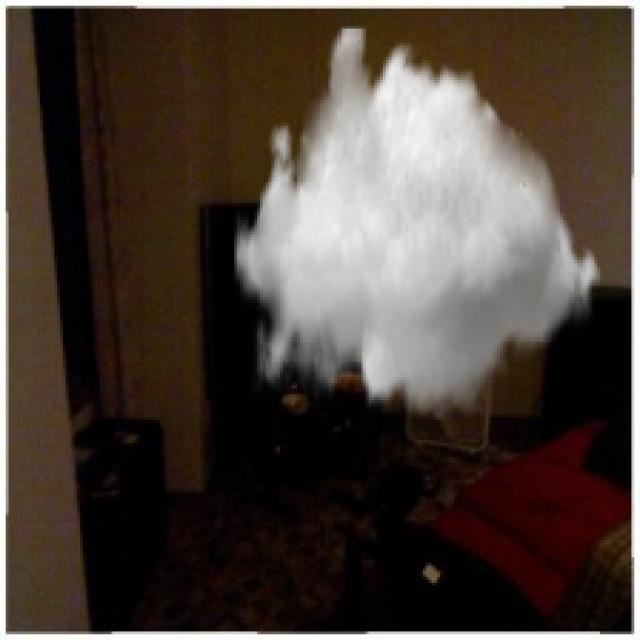Smoke: (234, 26, 609, 420)
